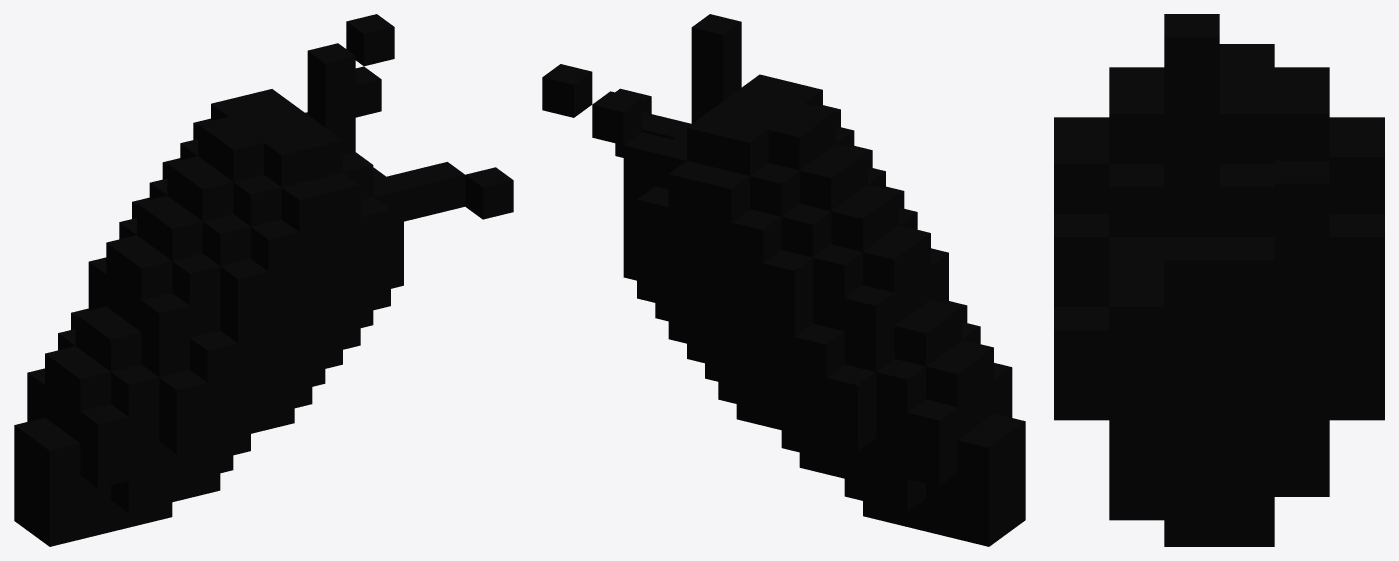
The model's file is Carrot.obj.
The picture shows the model from 3 angles, left to right: view 1: azimuth 30°, elevation 25°; view 2: azimuth 150°, elevation 25°; view 3: azimuth 270°, elevation 25°; orthographic projection. The views are drawn at different scales.
Size of the model in its own units: 1.4 by 1.3 by 0.6.
